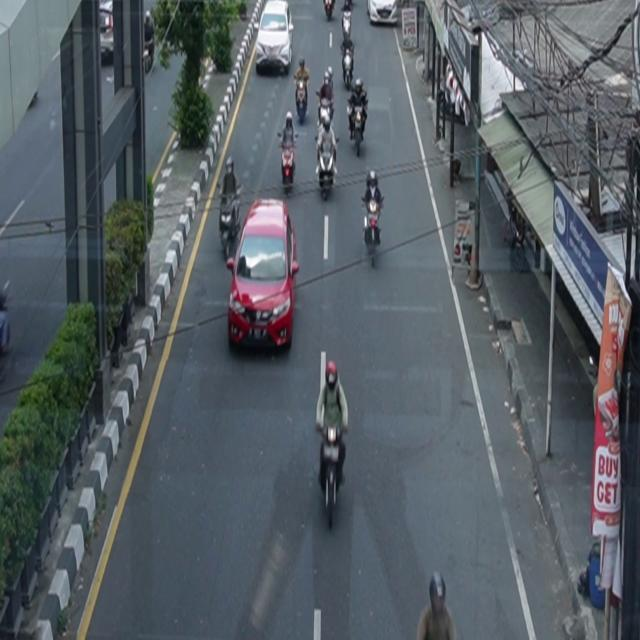car: (227, 198, 300, 352), (256, 1, 294, 76), (367, 1, 398, 26)
